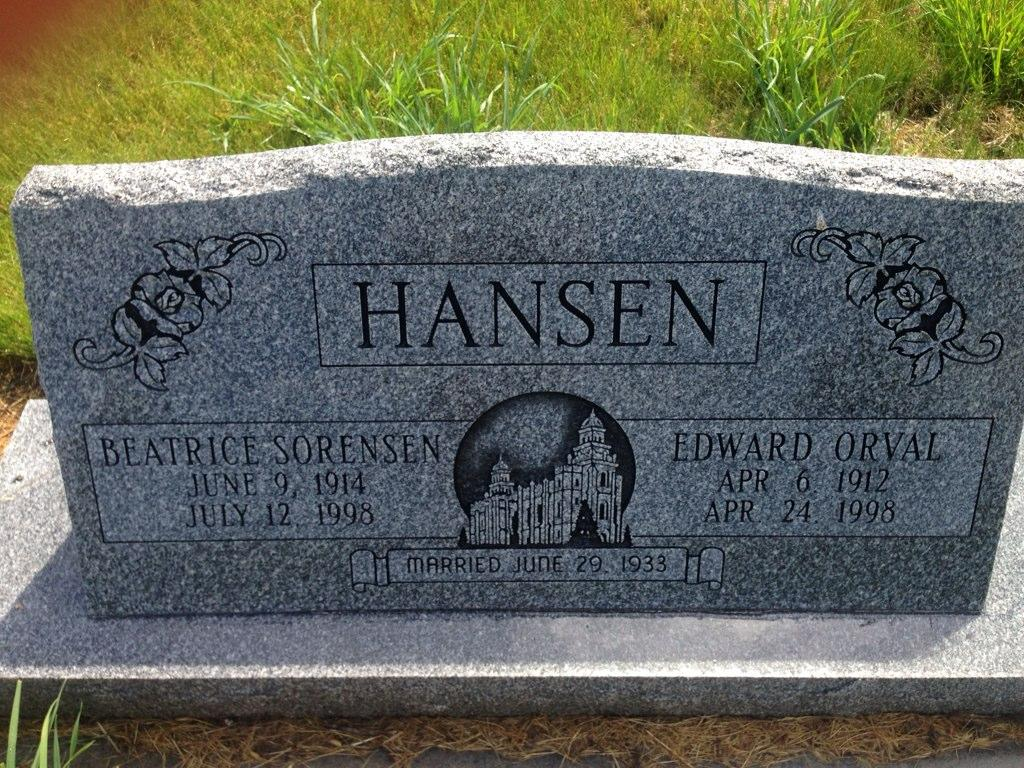upright: (0, 127, 1024, 721)
